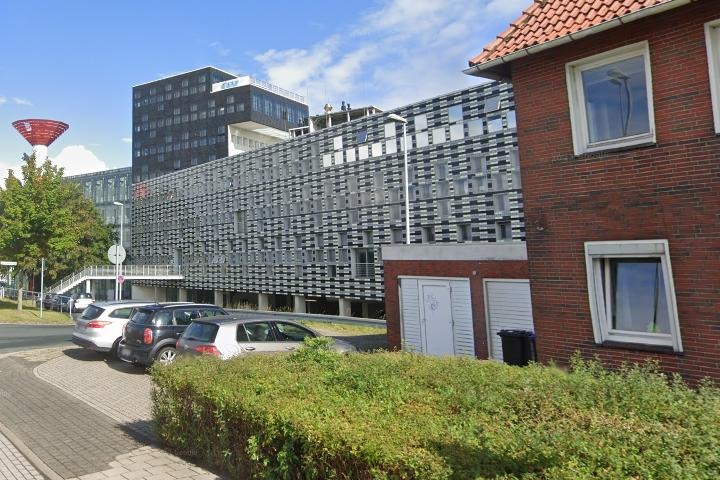vehicle: (171, 309, 368, 386)
